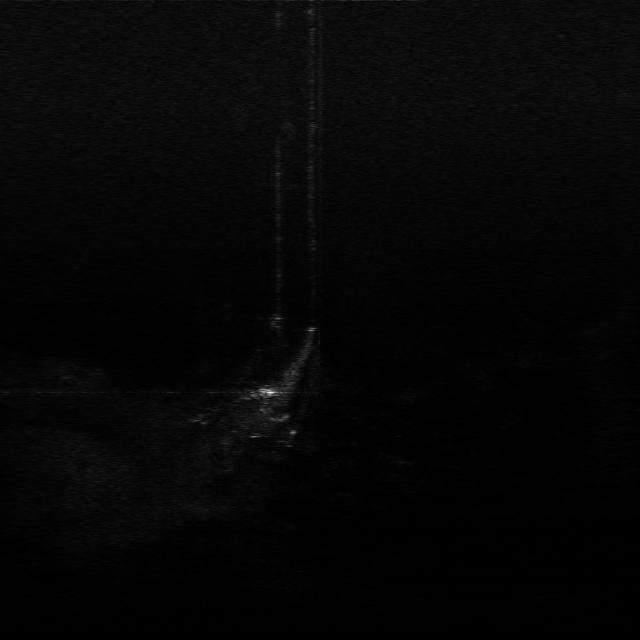rov: (248, 384, 286, 404)
